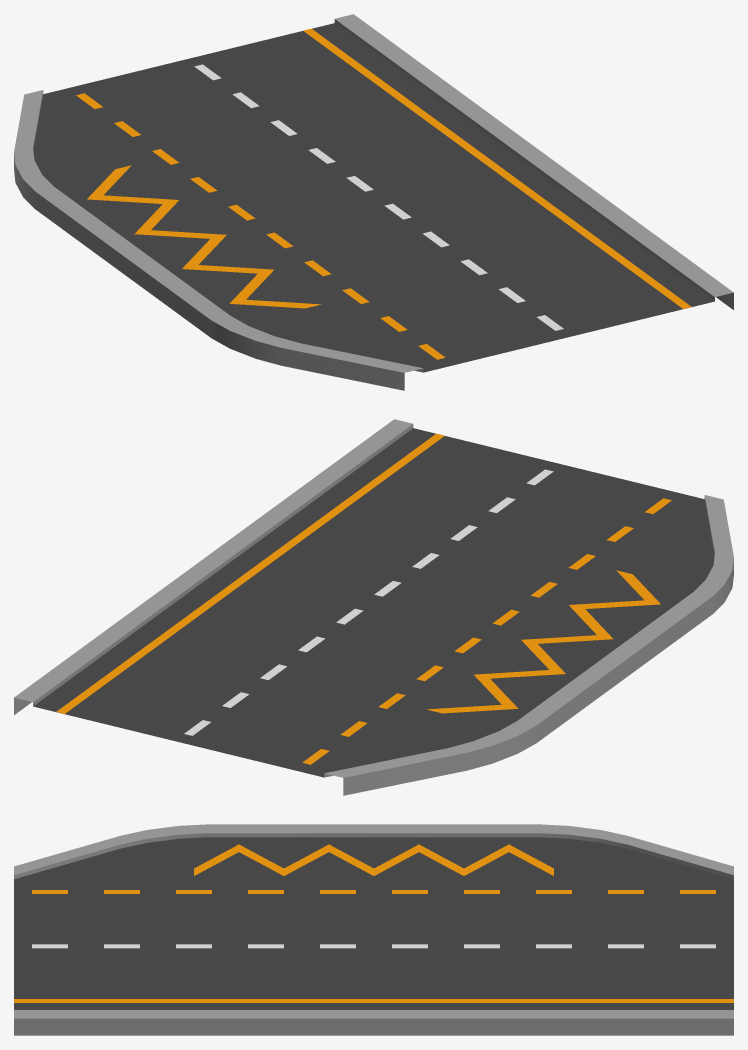
The model's file is Road_A_4.glb.
The picture shows the model from 3 angles, top to bottom: view 1: azimuth 30°, elevation 25°; view 2: azimuth 150°, elevation 25°; view 3: azimuth 270°, elevation 25°; orthographic projection. The views are drawn at different scales.
Visible parts, largest first — view 1: Road_A_4; view 2: Road_A_4; view 3: Road_A_4.
Boxes of the visible parts, box(x1,y1,x2,y2) form: Road_A_4: box(14, 14, 733, 390); Road_A_4: box(14, 419, 733, 795); Road_A_4: box(14, 824, 733, 1035).
Size of the model in its own units: 10.21 by 0.4148 by 16.
Materials: 1 (1 with a texture image).
